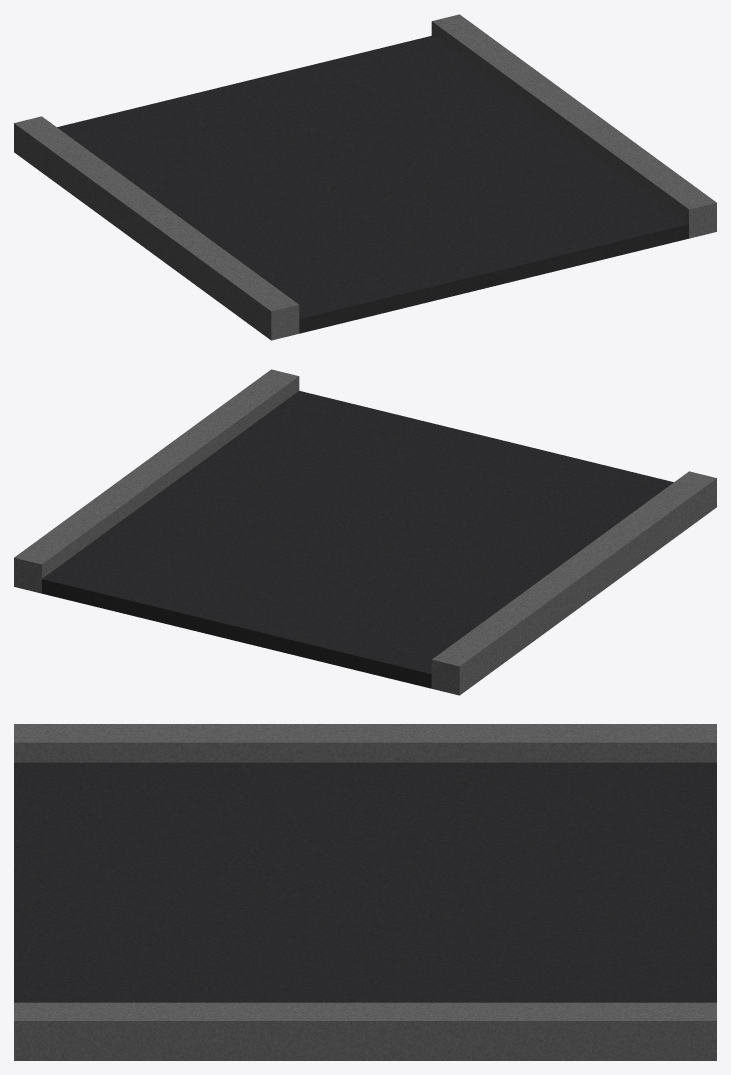
File: straight.glb
3 renders of one model, top to bottom at view 1: azimuth 30°, elevation 25°; view 2: azimuth 150°, elevation 25°; view 3: azimuth 270°, elevation 25°, orthographic. The views are drawn at different scales.
Visible parts, largest first — view 1: Cube; view 2: Cube; view 3: Cube.
Part boxes in pixels (x1,y1,x2,y2): Cube: (14, 14, 716, 340); Cube: (14, 369, 716, 695); Cube: (14, 724, 716, 1060).
Size of the model in its own units: 32 by 2 by 32.
1 material, 1 textured.
